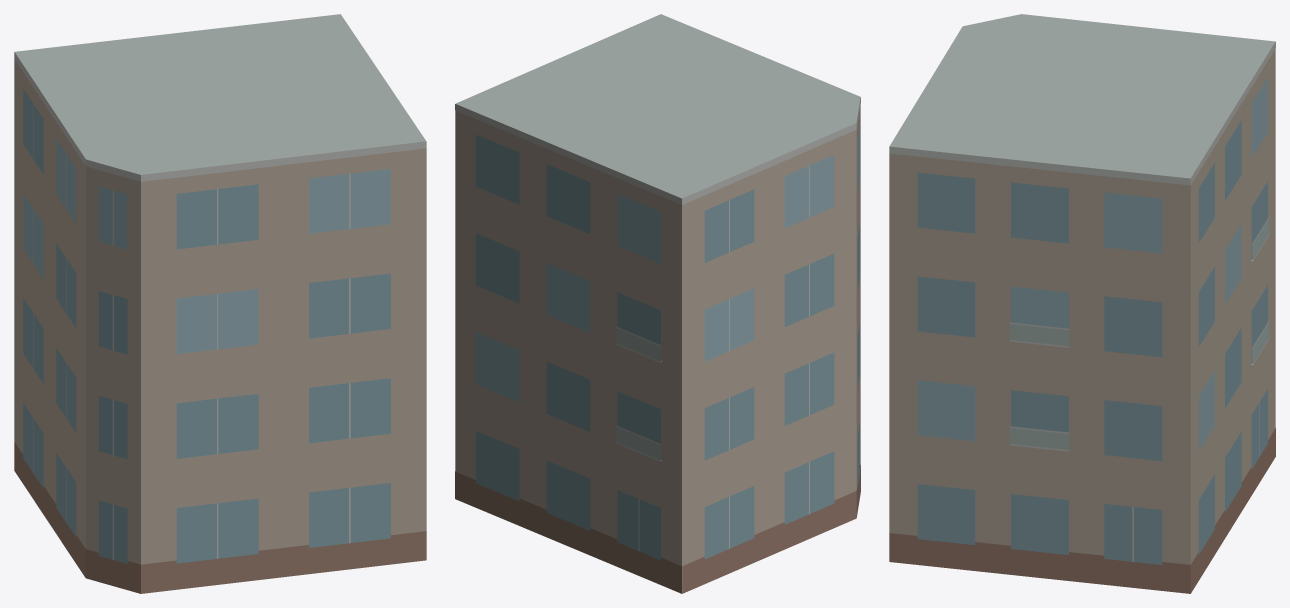
File: survey-upis-32815789.glb
The picture shows the model from 3 angles, left to right: view 1: azimuth 30°, elevation 25°; view 2: azimuth 150°, elevation 25°; view 3: azimuth 270°, elevation 25°; orthographic projection. The views are drawn at different scales.
Visible parts, largest first — view 1: survey-upis-32815789.tmp; view 2: survey-upis-32815789.tmp; view 3: survey-upis-32815789.tmp.
Part boxes in pixels (x1,y1,x2,y2): survey-upis-32815789.tmp: (14,14,426,593); survey-upis-32815789.tmp: (455,14,860,593); survey-upis-32815789.tmp: (889,14,1275,593).
Size of the model in its own units: 12.5 by 14.7 by 12.4.
